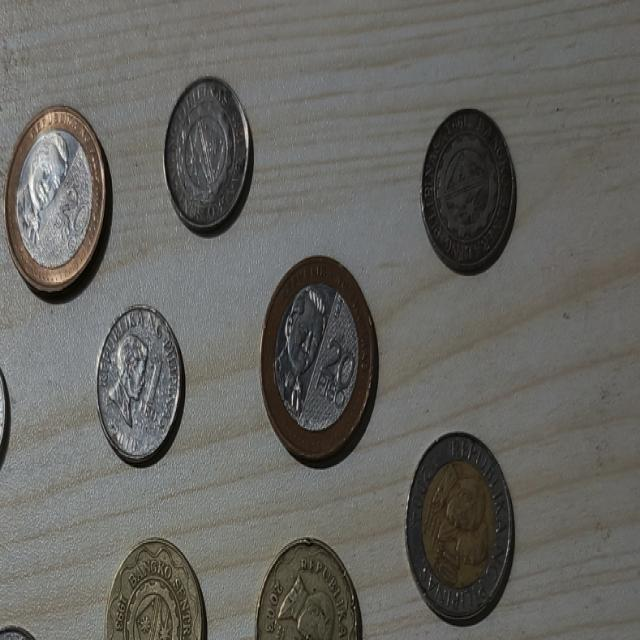10_peso: (406, 433, 514, 624)
1_peso: (422, 110, 516, 273), (97, 306, 183, 464), (165, 78, 248, 231)
20_peso: (260, 257, 376, 462), (4, 106, 105, 292)
5_peso: (256, 539, 361, 639), (105, 539, 204, 639)
